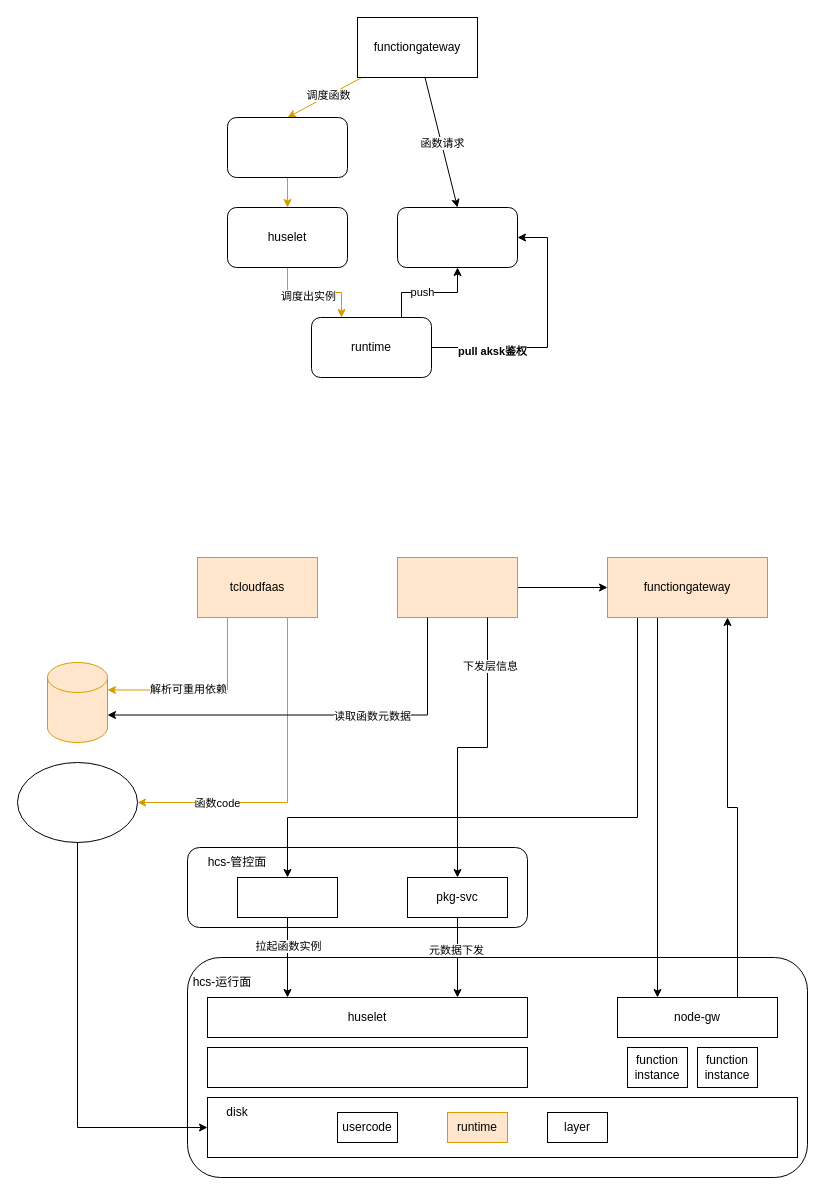
The diagram is 825 pixels wide and 1195 high, and some of its shapes have lost their labels. The shapes that lost their labels are listed below. From the top down, each one's centre as x and y in pixels, then its label:
At point 287,147: "coordinator".
At point 457,237: "nodegw".
At point 457,587: "tfunctionmeta".
At point 77,702: "DB".
At point 77,802: "oss".
At point 287,897: "huse-scheduler".
At point 367,1067: "runsc".
